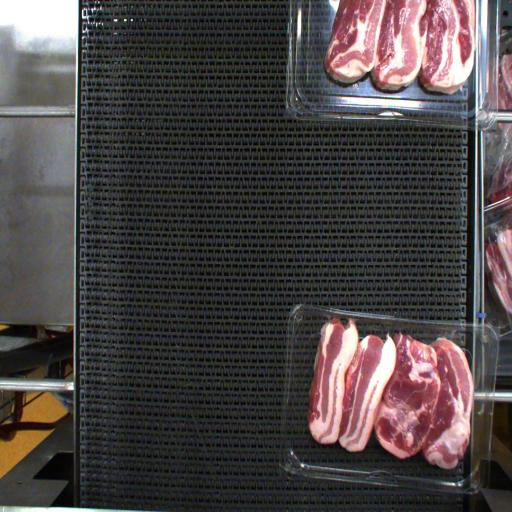packaging-error: (323, 311, 341, 323), (346, 314, 358, 326)
